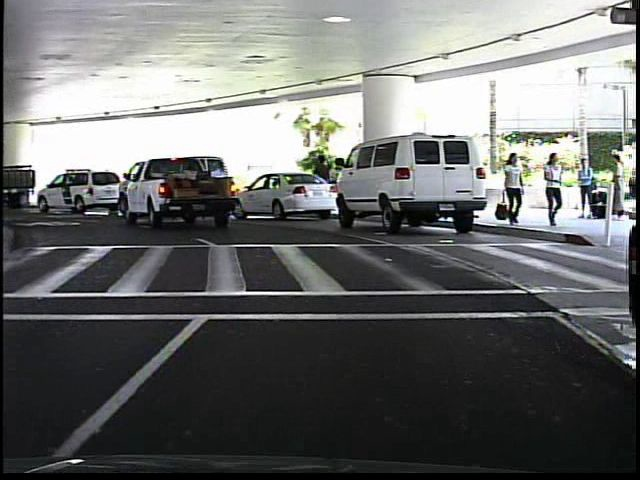person: (542, 153, 570, 232), (500, 150, 527, 227), (573, 158, 600, 228), (605, 151, 629, 221), (314, 151, 335, 212)
